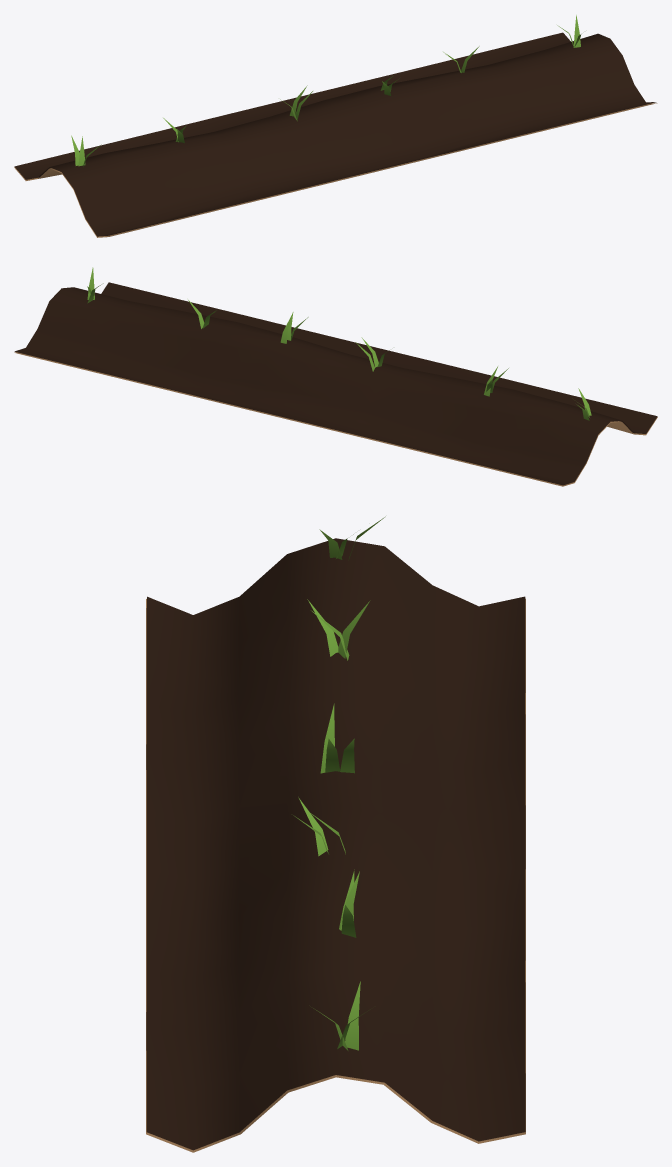
File: field_bund.glb
3 renders of one model, top to bottom at view 1: azimuth 30°, elevation 25°; view 2: azimuth 150°, elevation 25°; view 3: azimuth 270°, elevation 25°, orthographic. The views are drawn at different scales.
Visible parts, largest first — view 1: field_bund_outline, field_bund; view 2: field_bund_outline, field_bund; view 3: field_bund_outline, field_bund.
Boxes of the visible parts, bbox=[...] form: field_bund_outline: bbox=[14, 32, 656, 236]; field_bund: bbox=[14, 15, 657, 237]; field_bund_outline: bbox=[14, 282, 657, 485]; field_bund: bbox=[14, 267, 657, 486]; field_bund_outline: bbox=[146, 538, 525, 1150]; field_bund: bbox=[146, 516, 525, 1152].
Bounding box in the file's own units: 4 × 0.437 × 1.2.
